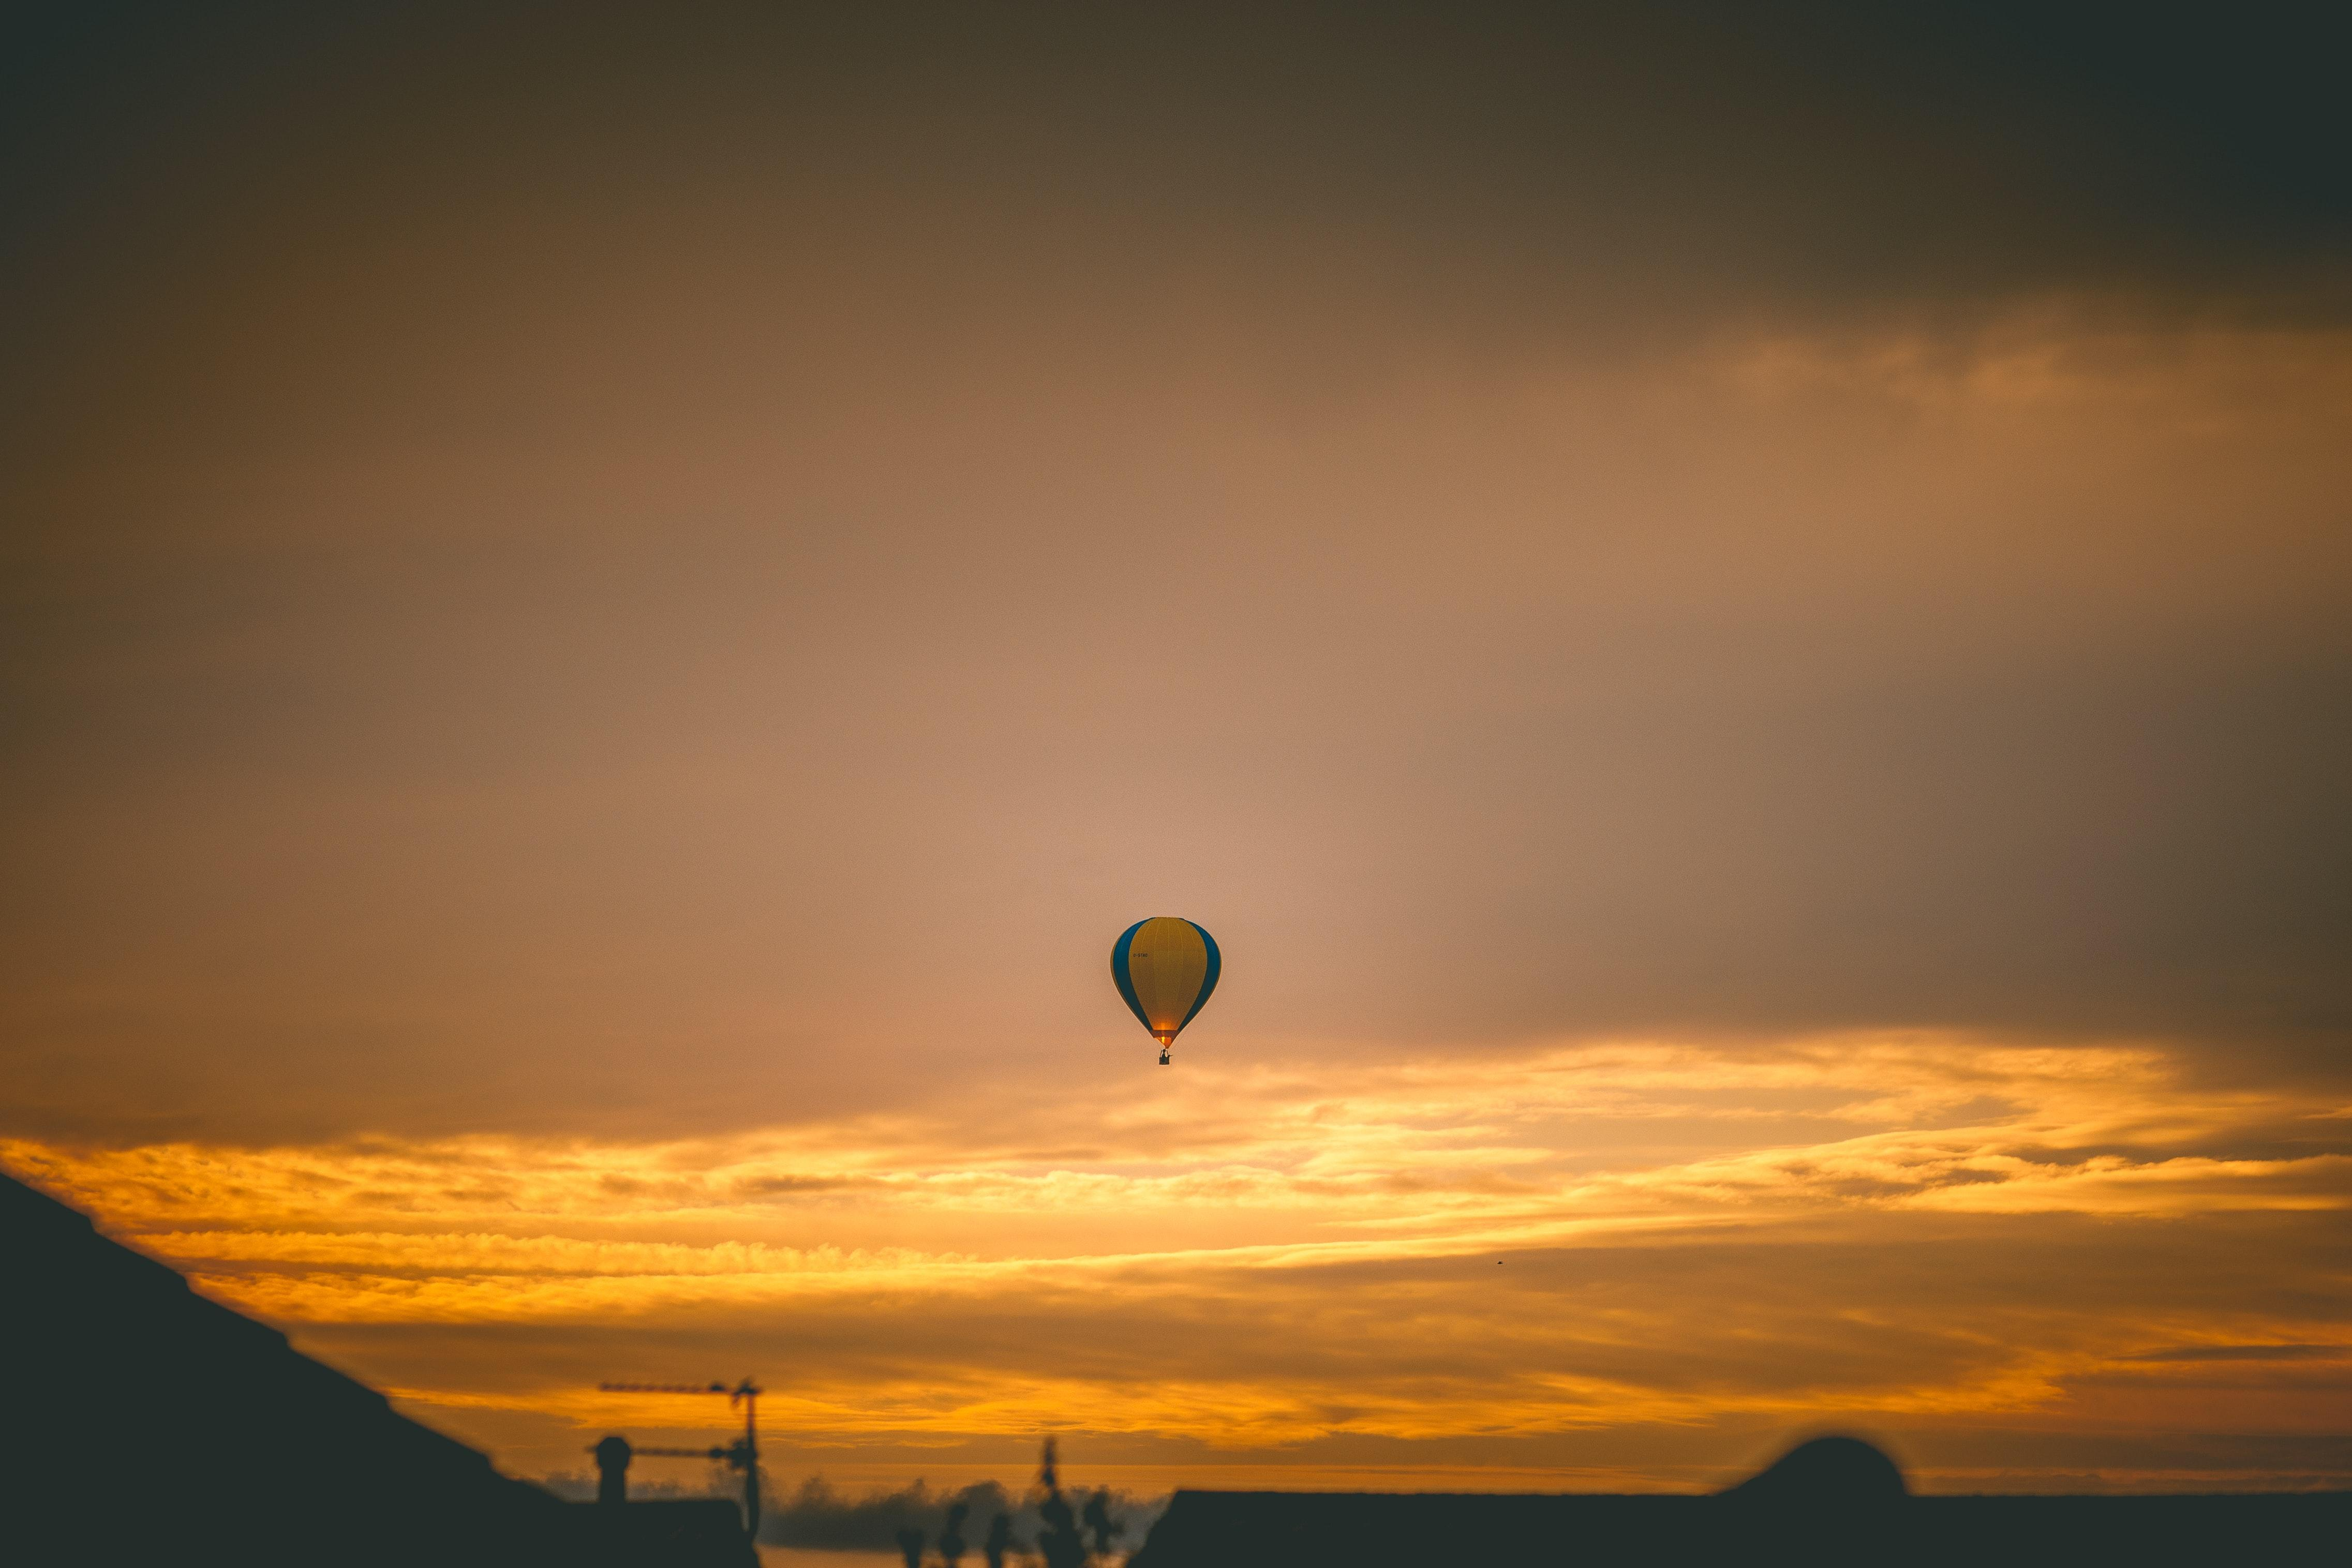hot air ballon: (1109, 917, 1223, 1064)
